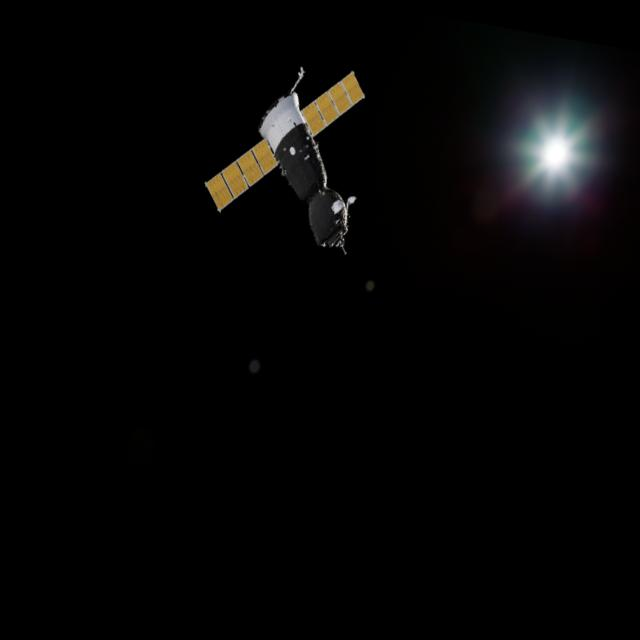Satellites revolving around earth: (193, 46, 380, 258)
